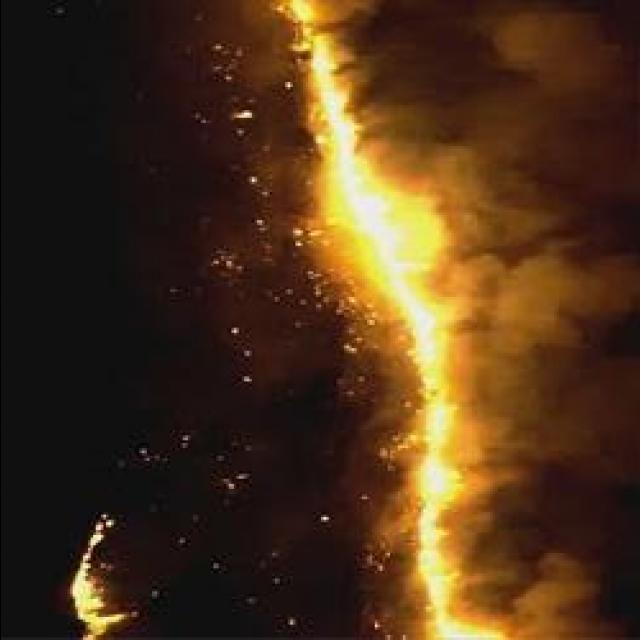fire: (358, 195, 450, 380), (72, 514, 110, 634), (328, 96, 360, 190), (347, 183, 377, 224), (422, 464, 447, 492)
smoke: (462, 244, 640, 495), (444, 542, 640, 640), (428, 102, 554, 240), (483, 15, 608, 114), (342, 4, 397, 84)
